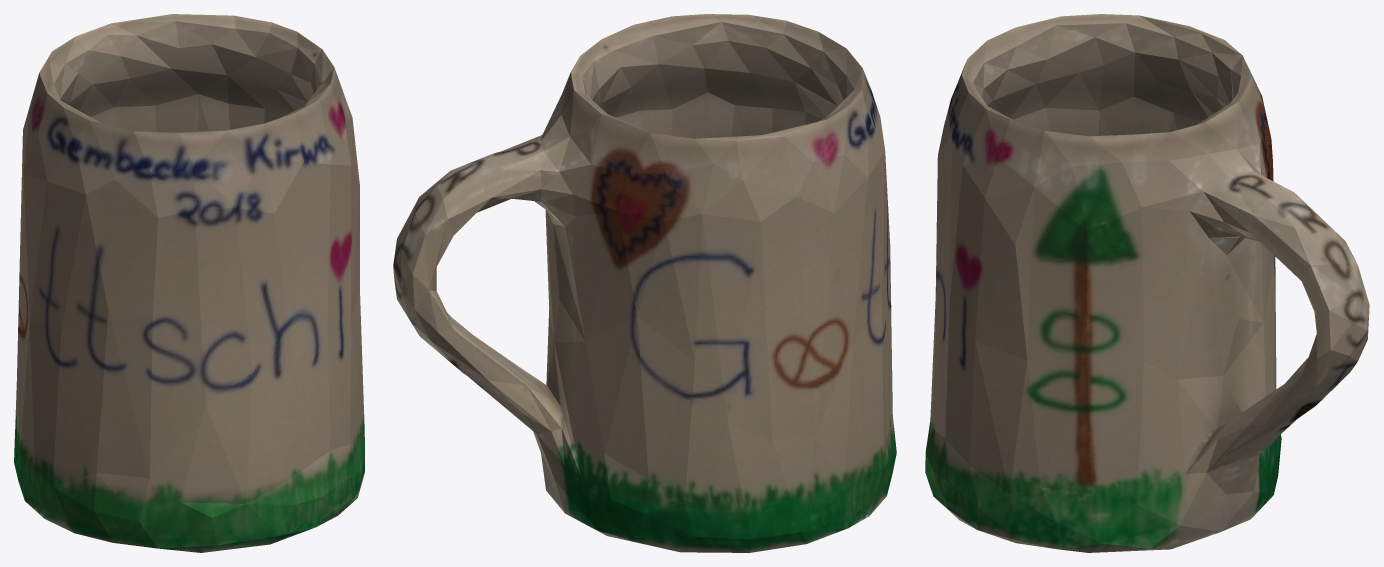
3 views of the same model, side by side, from view 1: azimuth 30°, elevation 25°; view 2: azimuth 150°, elevation 25°; view 3: azimuth 270°, elevation 25° (orthographic).
Parts seen in each view (by area): view 1: Krug Baum_0.8k_0.5k; view 2: Krug Baum_0.8k_0.5k; view 3: Krug Baum_0.8k_0.5k.
Boxes of the visible parts, bbox=[...] form: Krug Baum_0.8k_0.5k: bbox=[14, 14, 364, 552]; Krug Baum_0.8k_0.5k: bbox=[393, 14, 896, 552]; Krug Baum_0.8k_0.5k: bbox=[925, 14, 1369, 552].
Size of the model in its own units: 0.1168 by 0.126 by 0.1235.
Materials: 1 (1 with a texture image).
